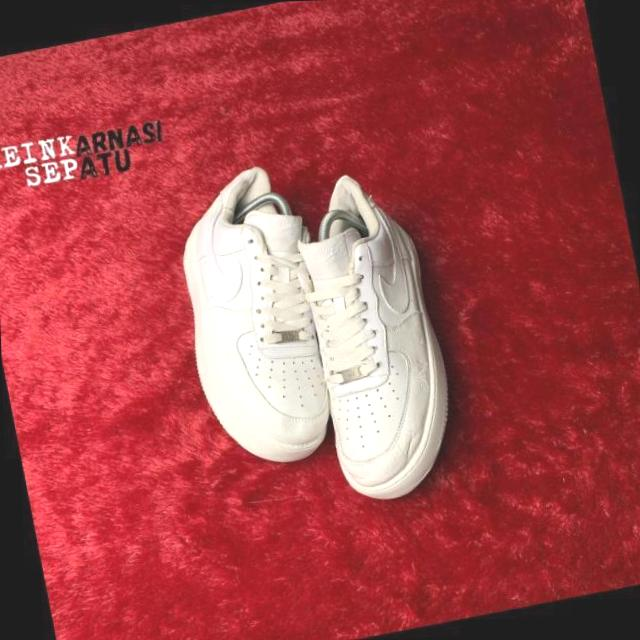nike_fake_airforce: (290, 157, 480, 512), (160, 154, 354, 477)
